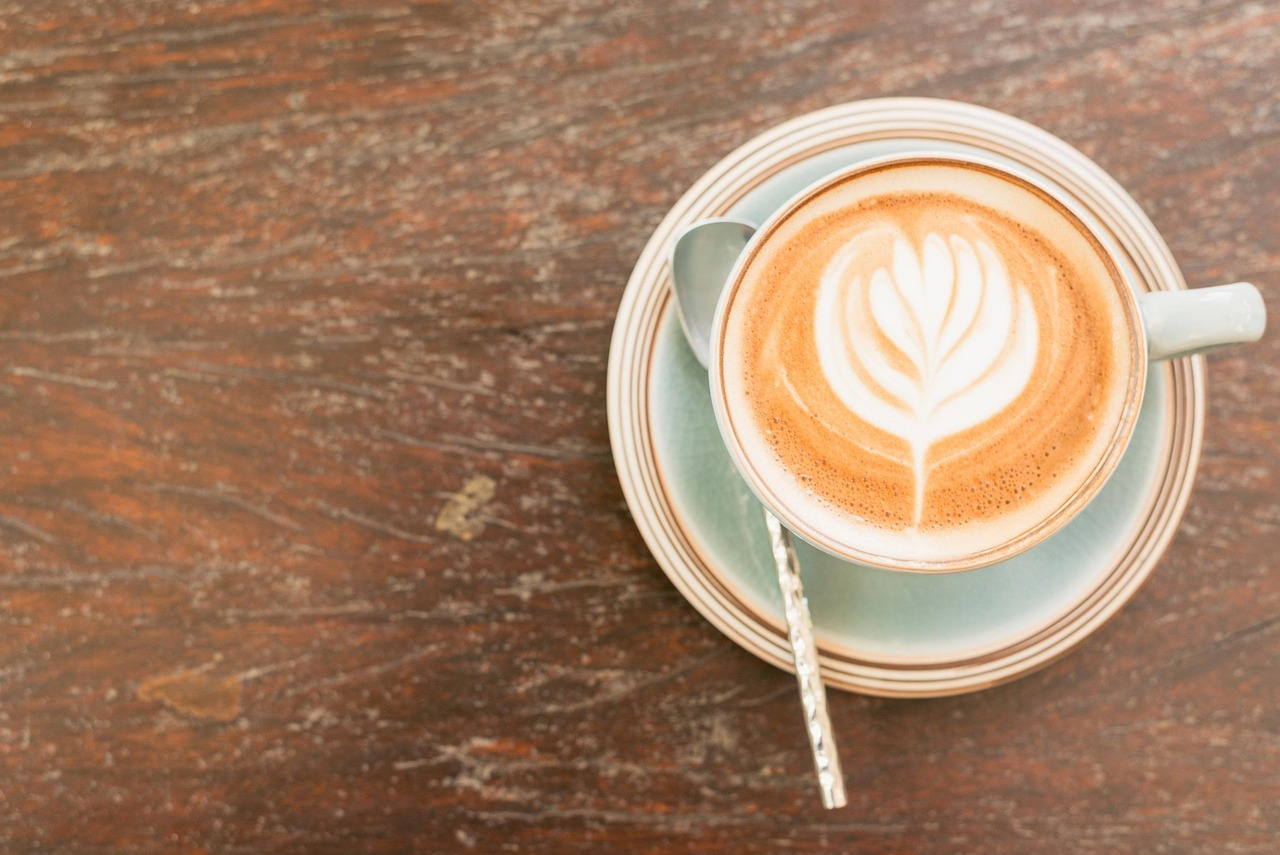mug: (682, 131, 1260, 614)
